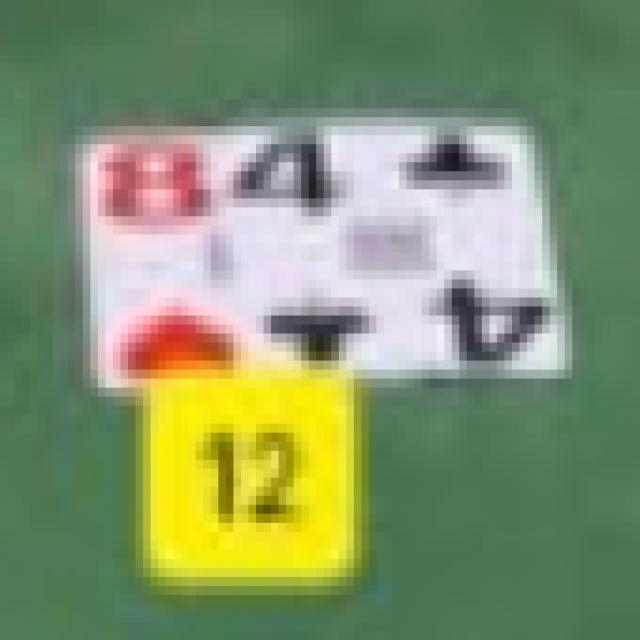Card-4: (236, 120, 570, 374)
Card-8: (88, 131, 243, 386)
